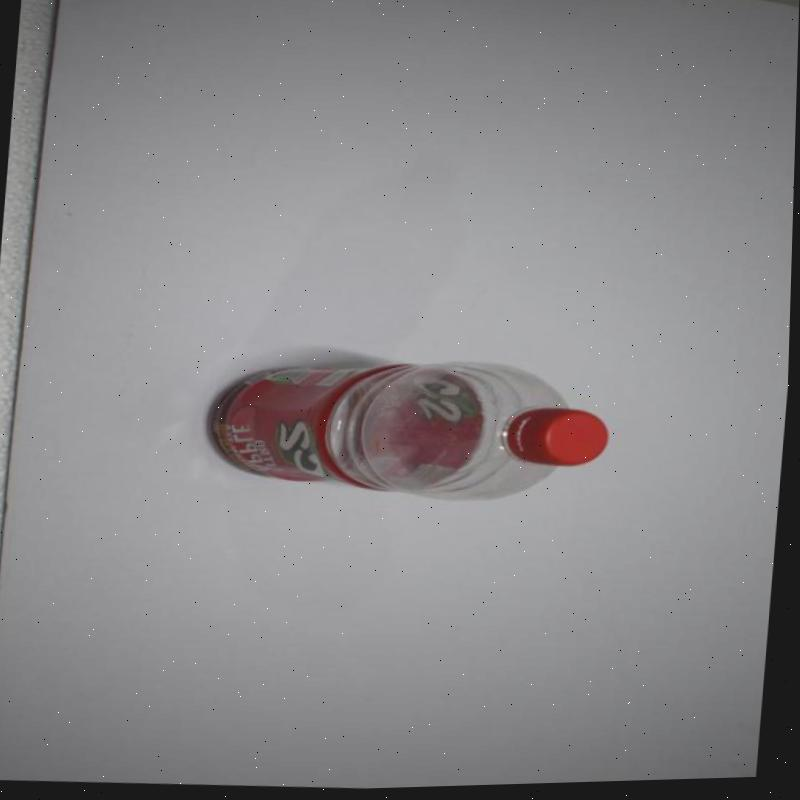botella: (202, 347, 619, 519)
